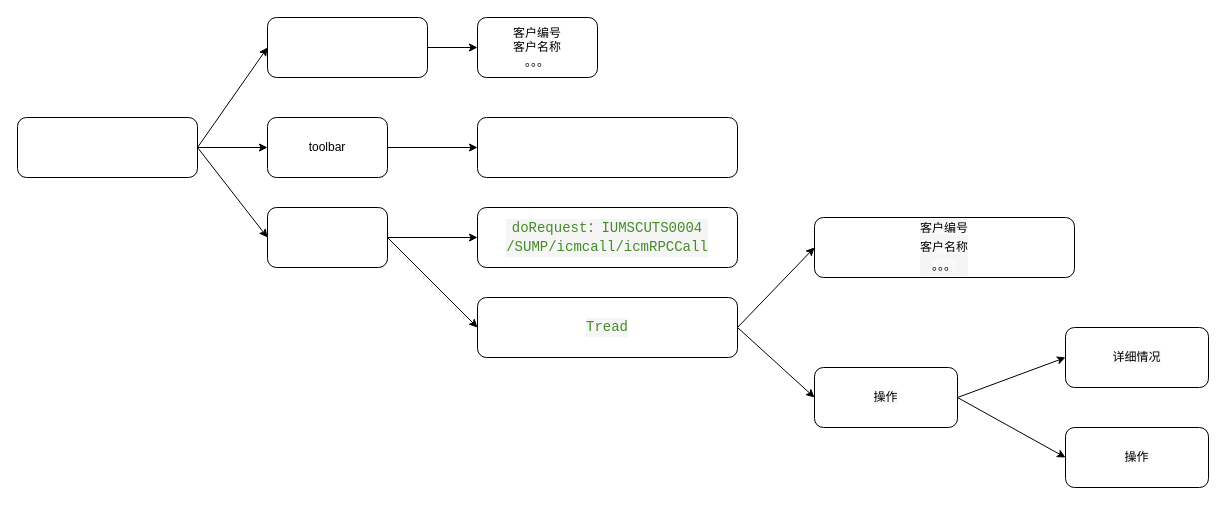
Image size: 1226x505. Some labels were removed from this diagram. Each missing label, with the centre of its shape:
datagrid: the point at 327,237
form: the point at 347,47
对公客户信息管理 customer_info_manager.json: the point at 107,147
新增 customer_info_public_add.json: the point at 607,147
